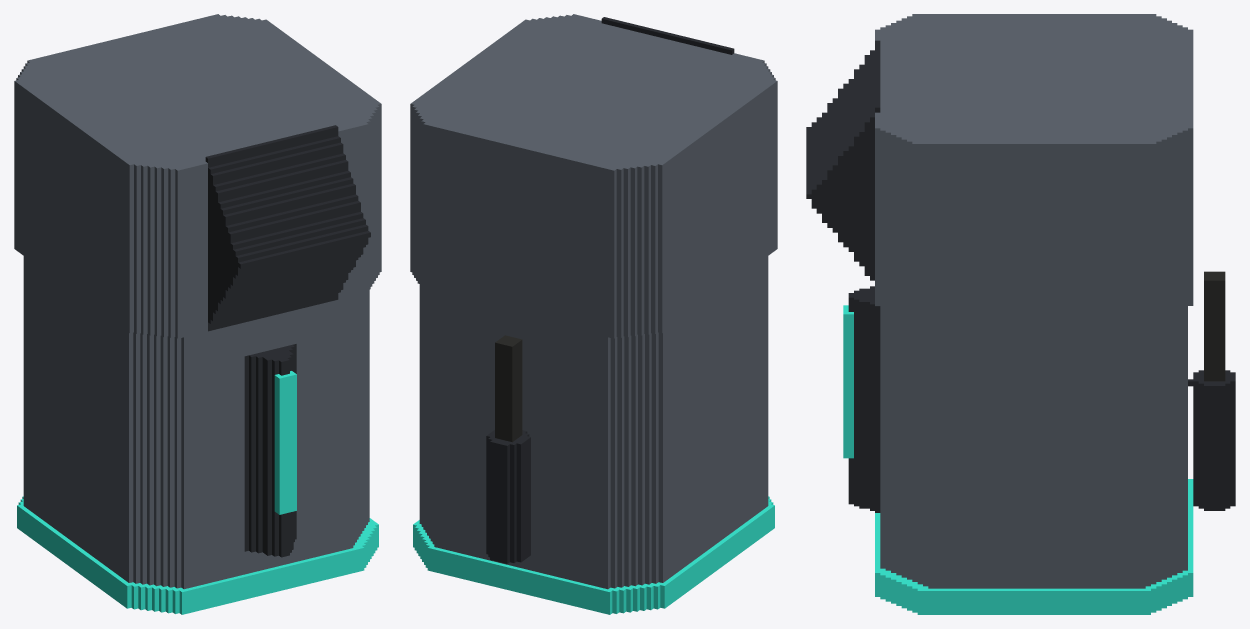
File: legguard_power_worn_shin.glb
3 renders of one model, left to right at view 1: azimuth 30°, elevation 25°; view 2: azimuth 150°, elevation 25°; view 3: azimuth 270°, elevation 25°, orthographic. The views are drawn at different scales.
Parts seen in each view (by area): view 1: legguard_power_worn_shin:compound; view 2: legguard_power_worn_shin:compound; view 3: legguard_power_worn_shin:compound.
Boxes of the visible parts, x1,y1,x2,y2 form: legguard_power_worn_shin:compound: (14,14,381,614); legguard_power_worn_shin:compound: (410,14,777,614); legguard_power_worn_shin:compound: (806,14,1235,614).
Size of the model in its own units: 0.232 by 0.396 by 0.324.
